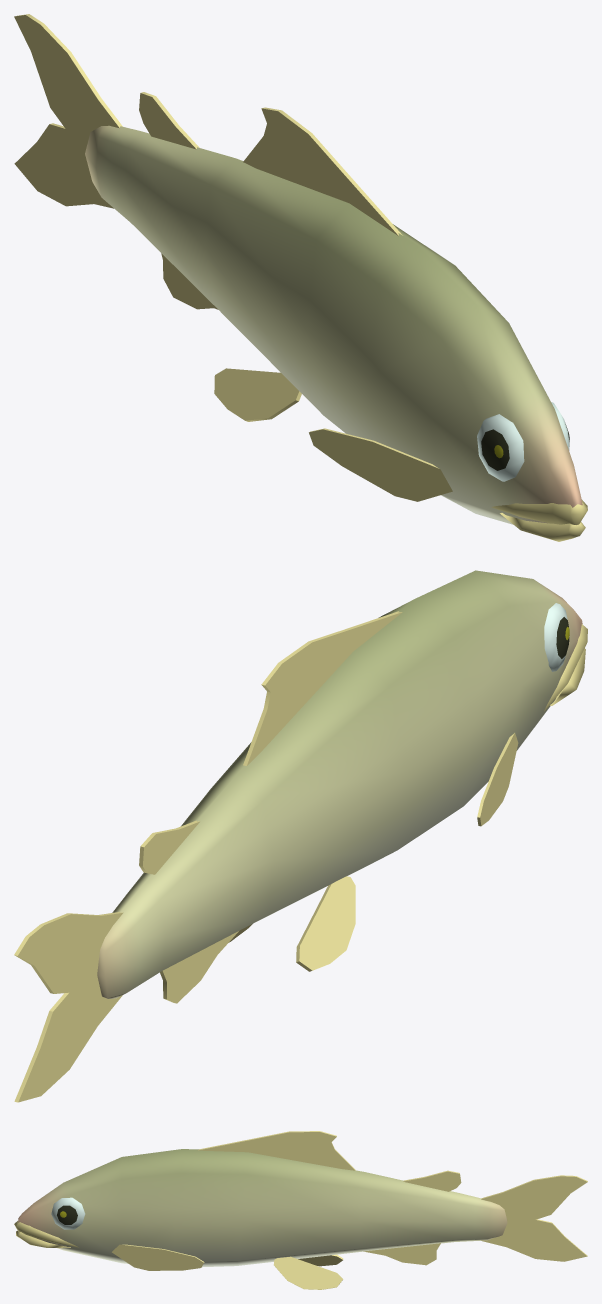
3 renders of one model, top to bottom at view 1: azimuth 30°, elevation 25°; view 2: azimuth 150°, elevation 25°; view 3: azimuth 270°, elevation 25°, orthographic. The views are drawn at different scales.
Visible parts, largest first — view 1: Fish_Sweetfish; view 2: Fish_Sweetfish; view 3: Fish_Sweetfish.
Boxes of the visible parts, x1=… form: Fish_Sweetfish: x1=14, y1=14, x2=587, y2=541; Fish_Sweetfish: x1=14, y1=570, x2=587, y2=1102; Fish_Sweetfish: x1=14, y1=1131, x2=587, y2=1289.
Size of the model in its own units: 10.77 by 17.37 by 61.63.
